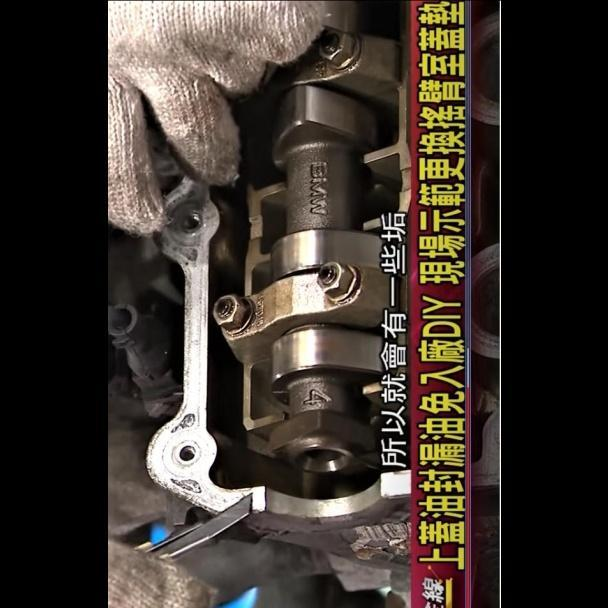hole: (180, 210, 201, 231), (178, 443, 197, 461)
